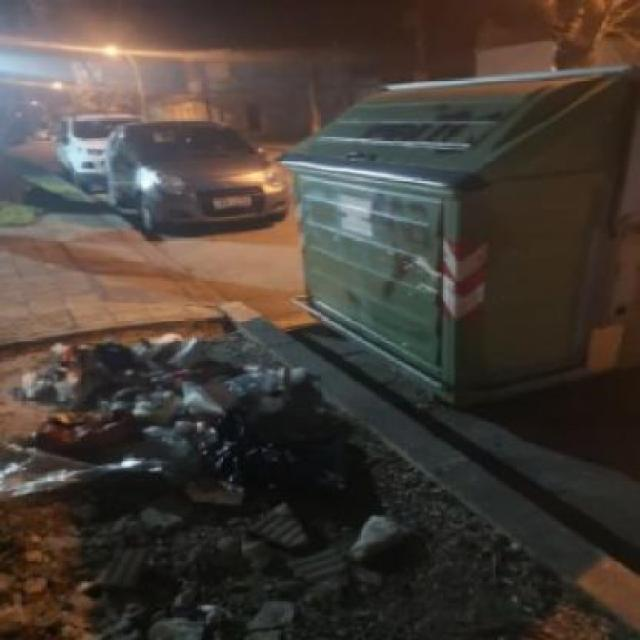garbage: (0, 321, 395, 630)
